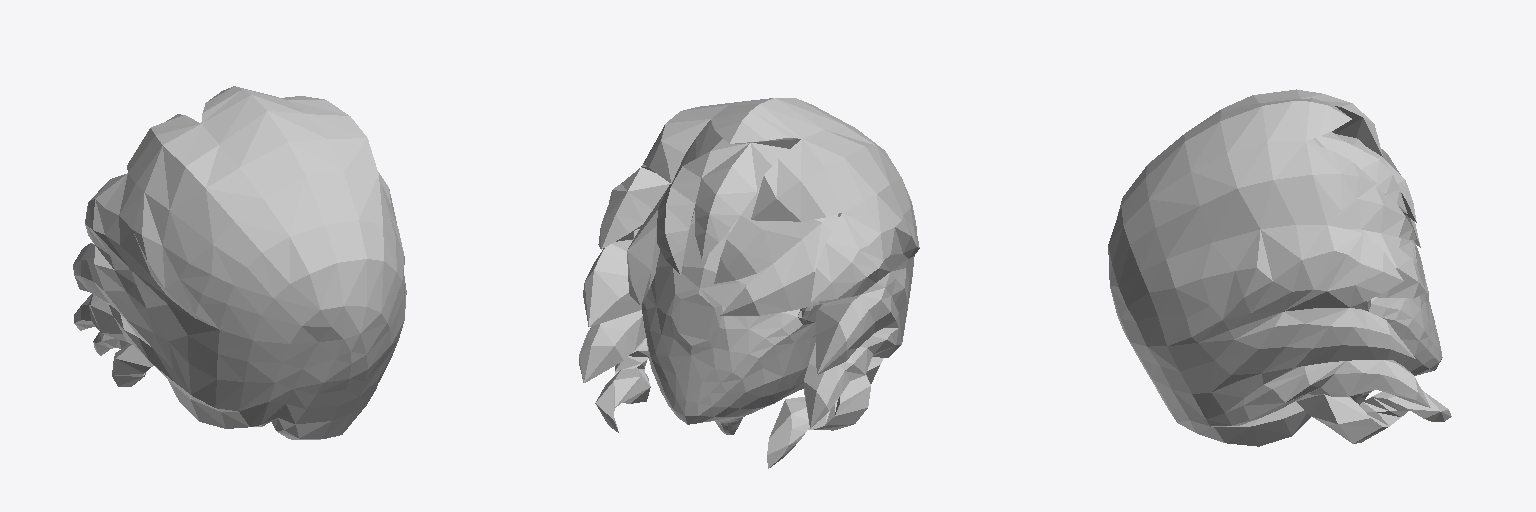
File: Female Blonde Hair.obj
3 renders of one model, left to right at view 1: azimuth 30°, elevation 25°; view 2: azimuth 150°, elevation 25°; view 3: azimuth 270°, elevation 25°, orthographic.
Visible parts, largest first — view 1: Object.1; view 2: Object.1; view 3: Object.1.
Boxes of the visible parts, <box> form: Object.1: <box>73,86,406,439</box>; Object.1: <box>579,98,919,468</box>; Object.1: <box>1108,89,1451,446</box>.
Bounding box in the file's own units: 15 × 16.27 × 16.25.